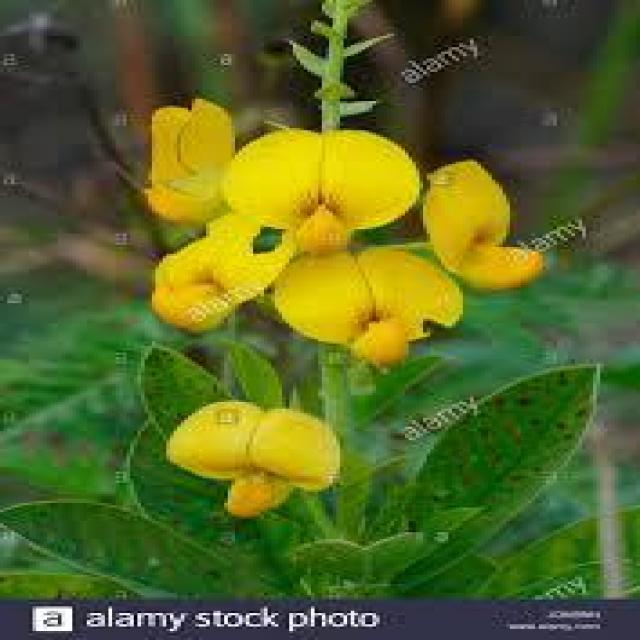organic waste: (271, 240, 452, 362), (421, 154, 566, 300), (230, 122, 414, 237), (125, 84, 269, 217), (175, 395, 324, 514), (150, 214, 255, 342)
